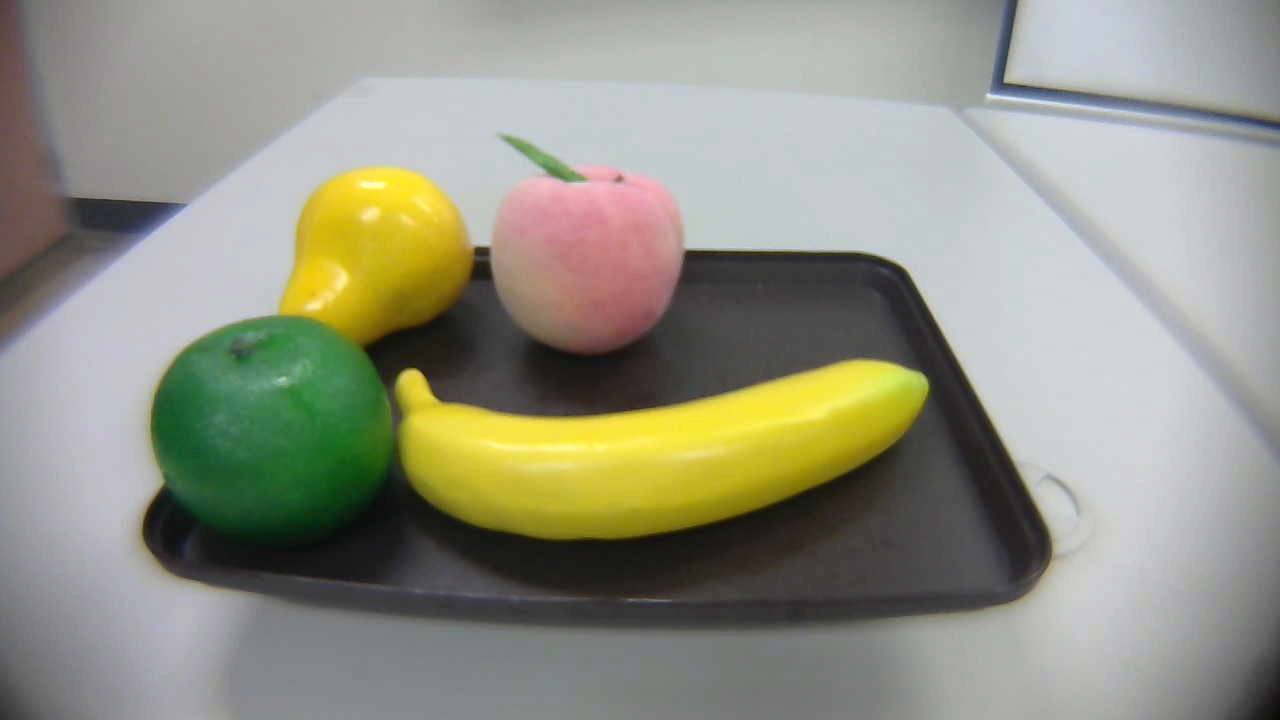banana: (374, 359, 944, 547)
green orange: (149, 317, 393, 554)
peach: (486, 122, 683, 352)
yellow pear: (262, 163, 493, 364)
